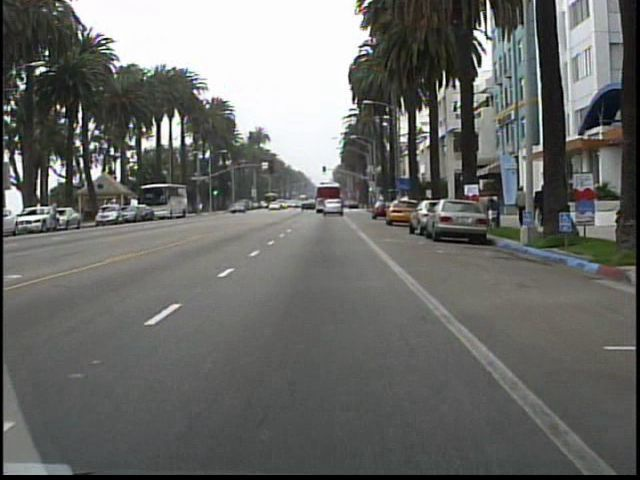person: (540, 180, 558, 229), (511, 180, 528, 228)
